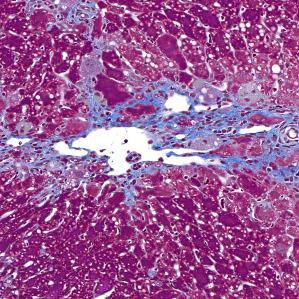fibrosis: (134, 82, 266, 154)
